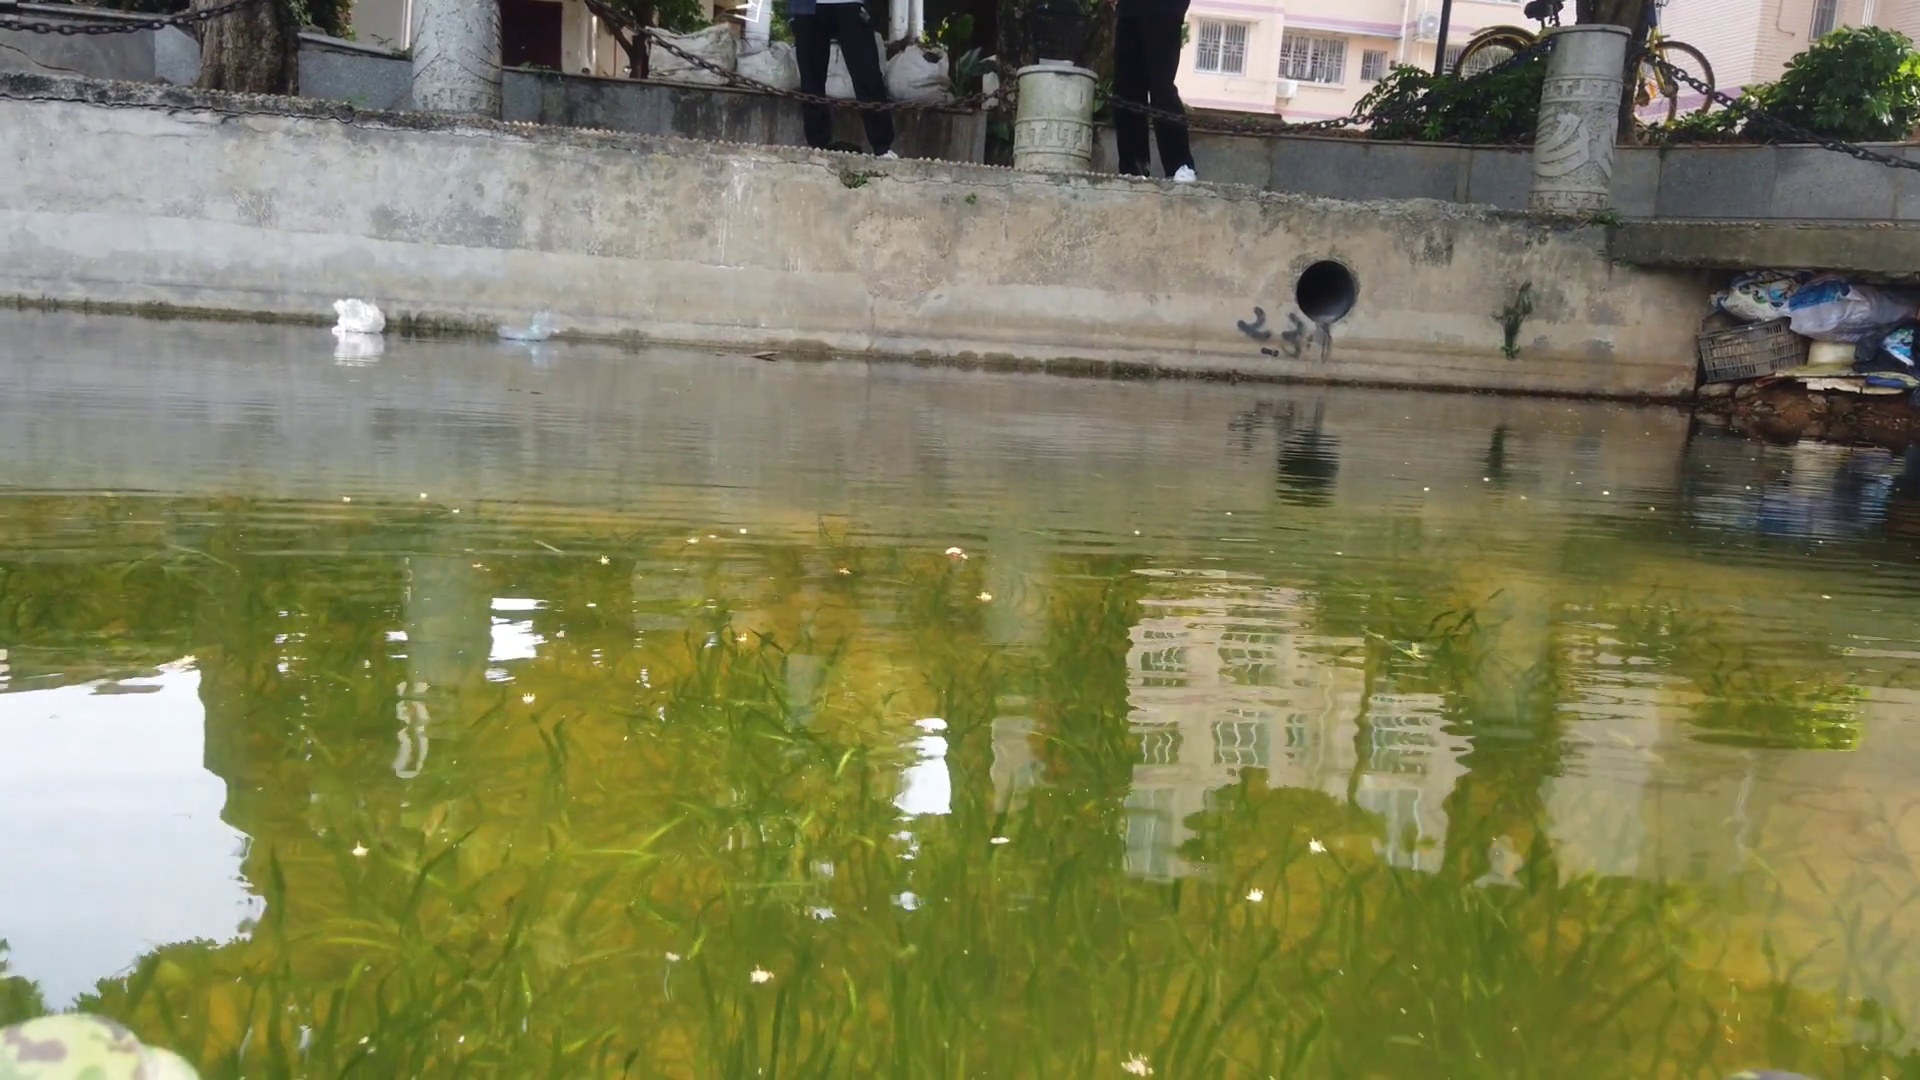paper: (709, 343, 781, 363)
plastic: (331, 297, 386, 334), (496, 311, 554, 342)
